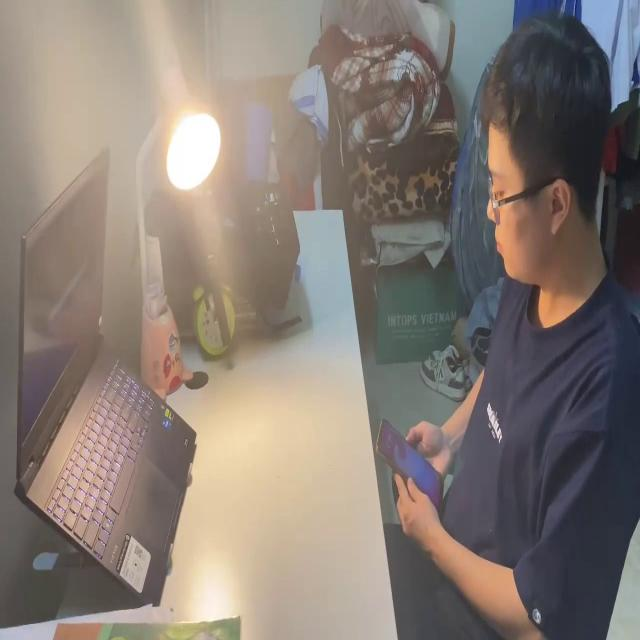book: (0, 601, 241, 640)
laptop: (11, 138, 198, 606)
phone: (374, 409, 446, 523)
student: (373, 5, 640, 640)
